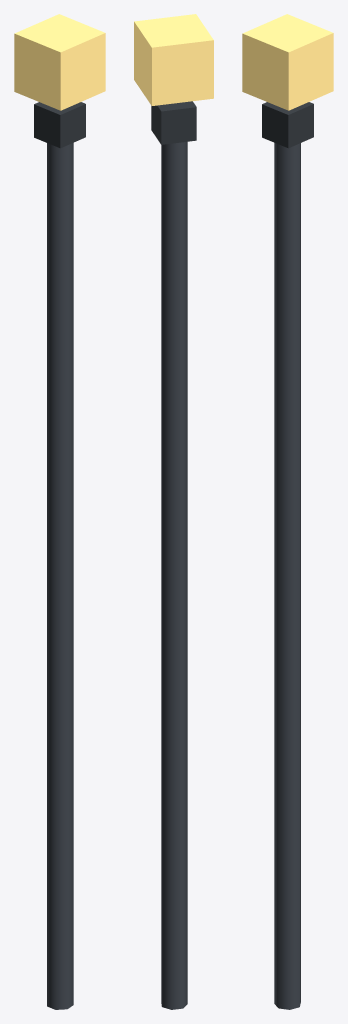
Rendered from cell-45_405.glb.
3 renders of one model, left to right at view 1: azimuth 90°, elevation 25°; view 2: azimuth 150°, elevation 25°; view 3: azimuth 270°, elevation 25°, orthographic.
Visible parts, largest first — view 1: cell-45_405 (×2); view 2: cell-45_405 (×2); view 3: cell-45_405 (×2).
Boxes of the visible parts, bbox=[...] form: cell-45_405 (×2): bbox=[14, 14, 105, 1009]; cell-45_405 (×2): bbox=[134, 14, 213, 1009]; cell-45_405 (×2): bbox=[242, 14, 333, 1009].
Bounding box in the file's own units: 0.198 × 2.33 × 0.1979.
